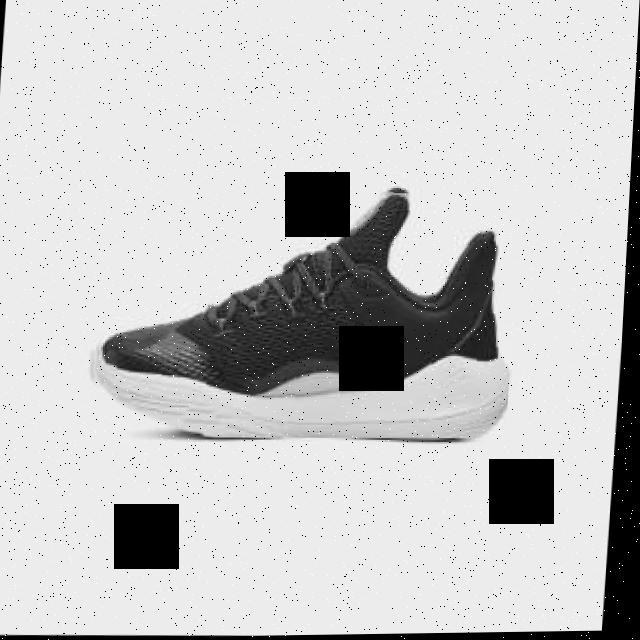shoe: (88, 180, 524, 444)
